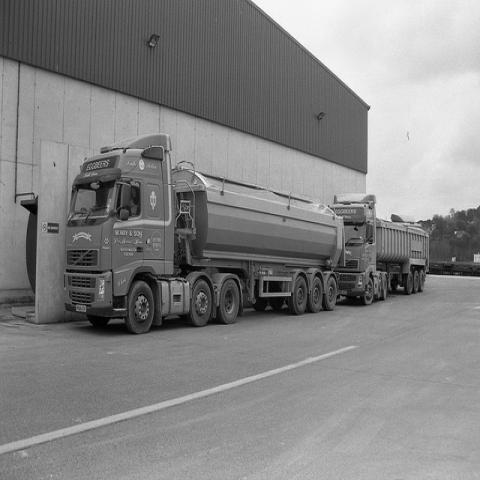truck: (65, 143, 341, 331), (326, 193, 431, 302)
